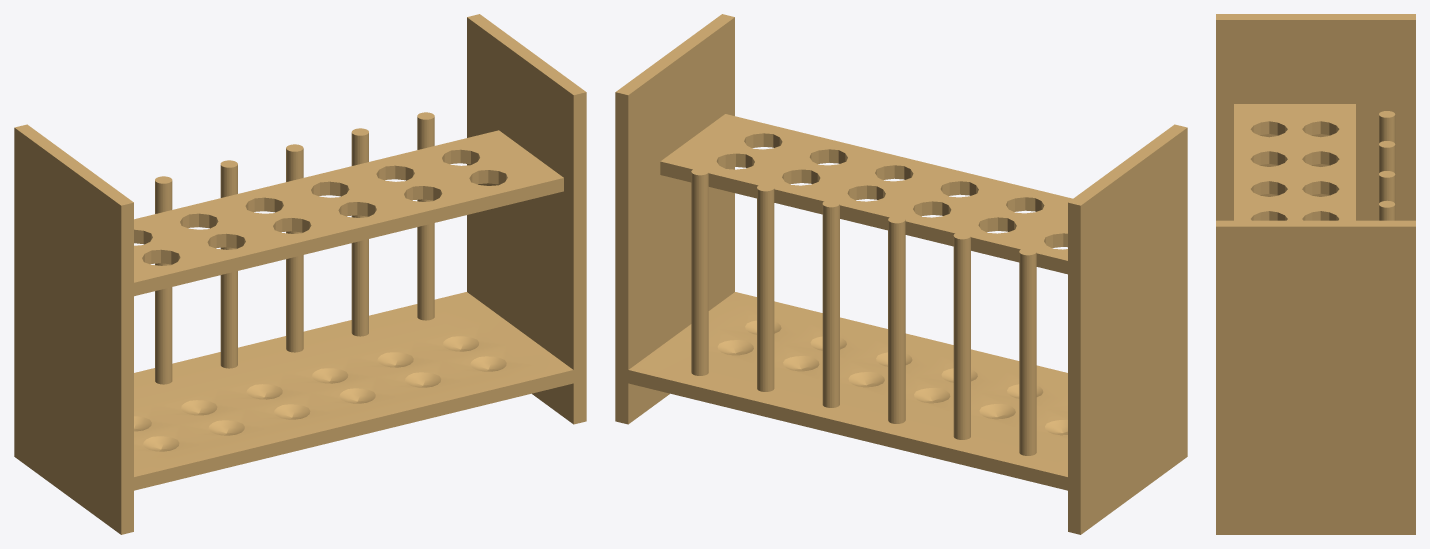
File: Alat_Rak Tabung Reaksi_Dhira.fbx
3 renders of one model, left to right at view 1: azimuth 30°, elevation 25°; view 2: azimuth 150°, elevation 25°; view 3: azimuth 270°, elevation 25°, orthographic. The views are drawn at different scales.
Visible parts, largest first — view 1: Sphere.075; view 2: Sphere.075; view 3: Sphere.075.
Boxes of the visible parts, box(x1,y1,x2,y2) form: Sphere.075: box(14, 14, 586, 534); Sphere.075: box(615, 14, 1187, 534); Sphere.075: box(1216, 14, 1415, 534).
Size of the model in its own units: 15.45 by 10.45 by 6.14.
